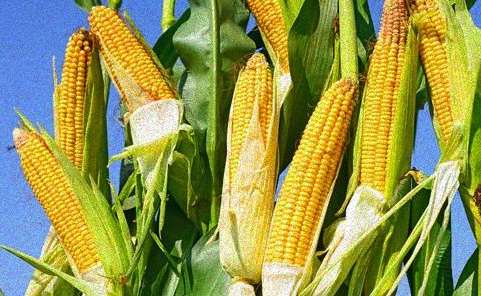corn: (7, 131, 120, 284), (90, 5, 185, 167), (267, 80, 346, 272), (224, 58, 273, 278), (361, 1, 410, 203), (420, 19, 477, 163), (58, 33, 99, 179)
